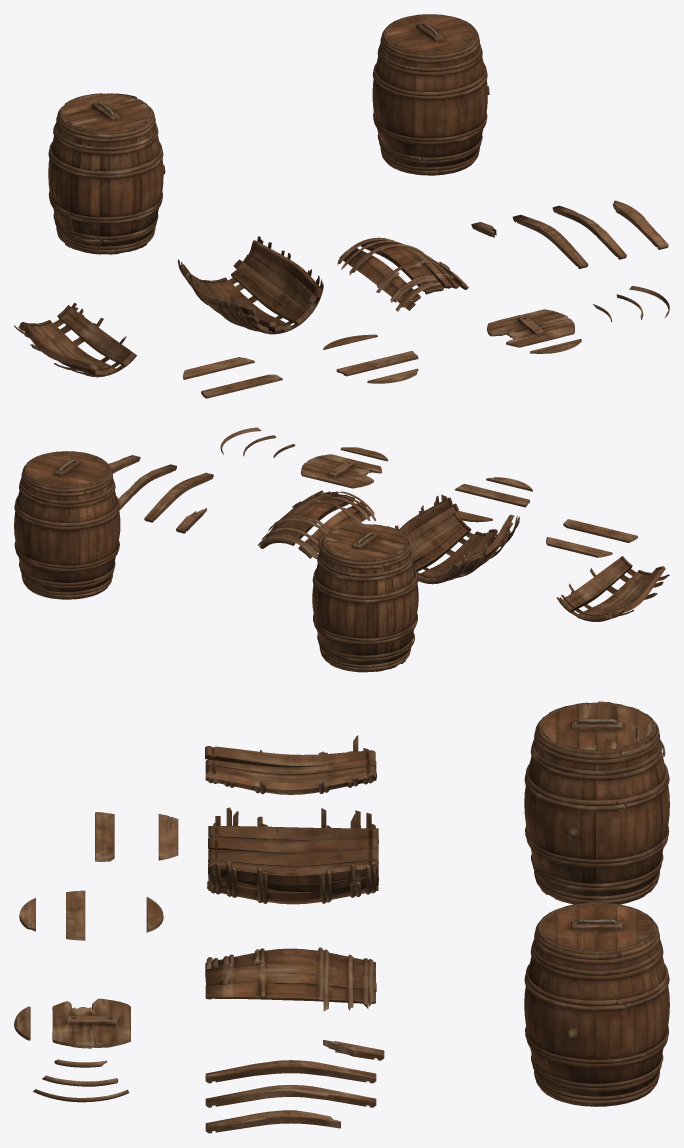
The model's file is barrels.glb.
3 views of the same model, one above another, from view 1: azimuth 30°, elevation 25°; view 2: azimuth 150°, elevation 25°; view 3: azimuth 270°, elevation 25° (orthographic). The views are drawn at different scales.
Parts seen in each view (by area): view 1: wooden_barrels_01_barrel02, wooden_barrels_01_barrel01, wooden_barrels_01_piece01, wooden_barrels_01_piece03, wooden_barrels_01_piece02, wooden_barrels_01_piece08, wooden_barrels_01_piece04, wooden_barrels_01_piece05, wooden_barrels_01_piece06, wooden_barrels_01_piece11, wooden_barrels_01_piece14, wooden_barrels_01_piece13; view 2: wooden_barrels_01_barrel02, wooden_barrels_01_barrel01, wooden_barrels_01_piece01, wooden_barrels_01_piece03, wooden_barrels_01_piece02, wooden_barrels_01_piece08, wooden_barrels_01_piece04, wooden_barrels_01_piece14, wooden_barrels_01_piece11, wooden_barrels_01_piece05, wooden_barrels_01_piece13; view 3: wooden_barrels_01_barrel01, wooden_barrels_01_barrel02, wooden_barrels_01_piece01, wooden_barrels_01_piece03, wooden_barrels_01_piece02, wooden_barrels_01_piece08, wooden_barrels_01_piece04, wooden_barrels_01_piece05, wooden_barrels_01_piece06, wooden_barrels_01_piece11, wooden_barrels_01_piece14, wooden_barrels_01_piece13 (+1 smaller).
Boxes of the visible parts, x1,y1,x2,y2 form: wooden_barrels_01_barrel02: (48,93,165,254); wooden_barrels_01_barrel01: (372,14,489,175); wooden_barrels_01_piece01: (177,236,323,334); wooden_barrels_01_piece03: (337,237,468,311); wooden_barrels_01_piece02: (14,302,136,377); wooden_barrels_01_piece08: (487,309,574,347); wooden_barrels_01_piece04: (512,214,588,268); wooden_barrels_01_piece05: (552,205,626,259); wooden_barrels_01_piece06: (612,200,668,249); wooden_barrels_01_piece11: (336,351,418,376); wooden_barrels_01_piece14: (201,374,282,398); wooden_barrels_01_piece13: (183,357,254,379); wooden_barrels_01_barrel02: (312,523,418,672); wooden_barrels_01_barrel01: (14,451,120,599); wooden_barrels_01_piece01: (395,494,519,584); wooden_barrels_01_piece03: (258,490,375,558); wooden_barrels_01_piece02: (556,556,669,621); wooden_barrels_01_piece08: (301,454,381,488); wooden_barrels_01_piece04: (144,472,213,522); wooden_barrels_01_piece14: (563,519,637,542); wooden_barrels_01_piece11: (455,484,529,507); wooden_barrels_01_piece05: (118,464,176,510); wooden_barrels_01_piece13: (546,537,612,557); wooden_barrels_01_barrel01: (524,902,669,1106); wooden_barrels_01_barrel02: (524,701,669,904); wooden_barrels_01_piece01: (207,807,378,904); wooden_barrels_01_piece03: (205,947,376,1011); wooden_barrels_01_piece02: (205,735,376,794); wooden_barrels_01_piece08: (52,998,130,1048); wooden_barrels_01_piece04: (205,1060,376,1083); wooden_barrels_01_piece05: (205,1085,376,1107); wooden_barrels_01_piece06: (205,1110,340,1133); wooden_barrels_01_piece11: (66,890,85,940); wooden_barrels_01_piece14: (95,812,114,861); wooden_barrels_01_piece13: (158,814,178,860).
Size of the model in its own units: 4.44 by 0.9555 by 3.34.
3 materials, 3 textured.
